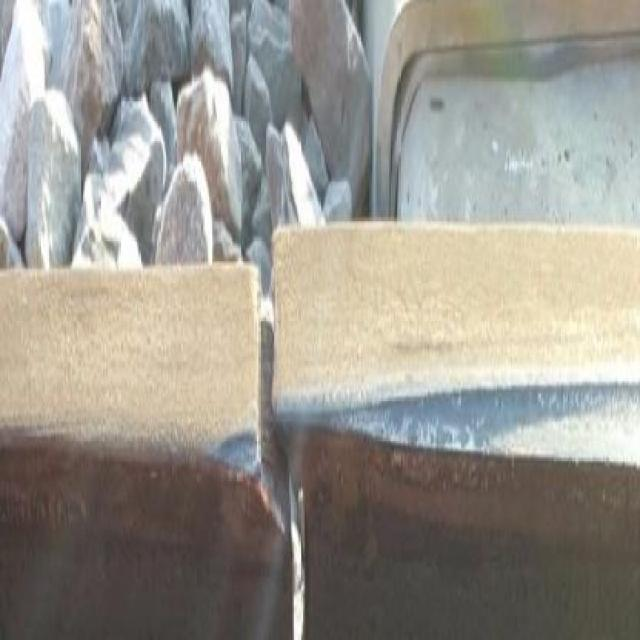defective: (175, 158, 396, 640)
